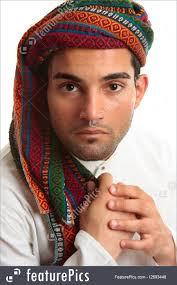middle_eastern_male: (37, 39, 149, 154)
